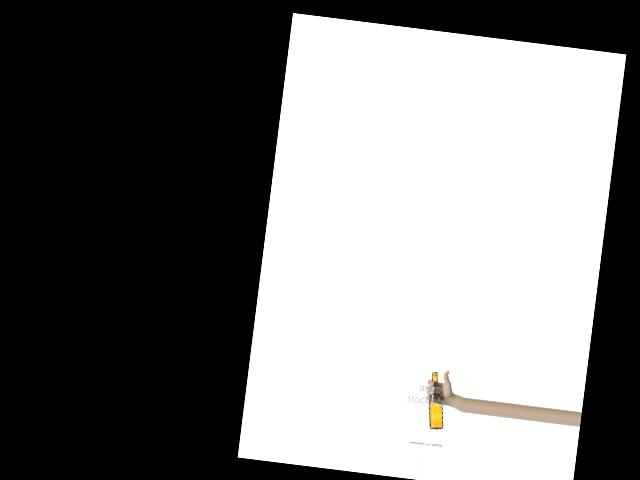beer: (425, 371, 450, 430)
